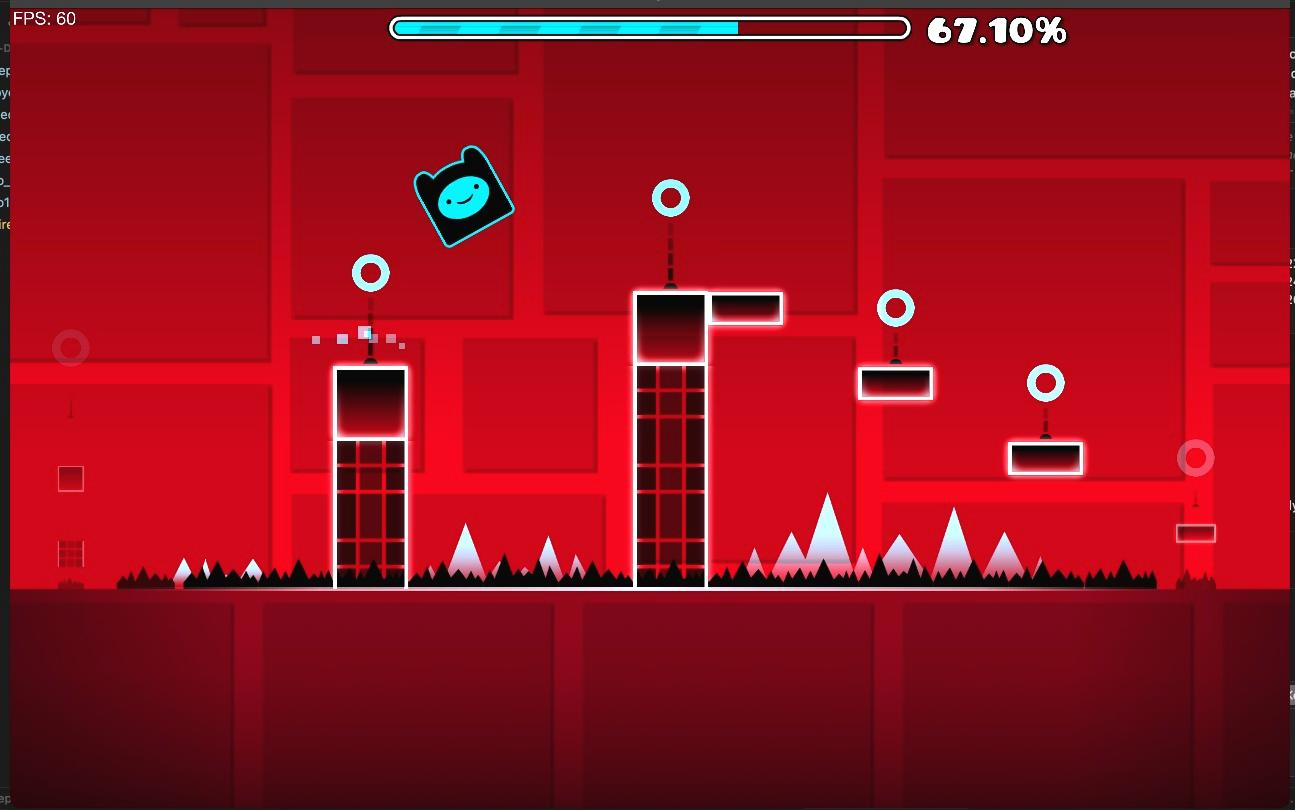block: (636, 291, 708, 589), (334, 366, 406, 586)
platform: (1007, 444, 1085, 474), (710, 293, 785, 322), (859, 370, 932, 399)
player: (415, 146, 513, 246)
spike: (712, 535, 1157, 589), (409, 524, 630, 587), (178, 560, 332, 587), (117, 567, 176, 589)
